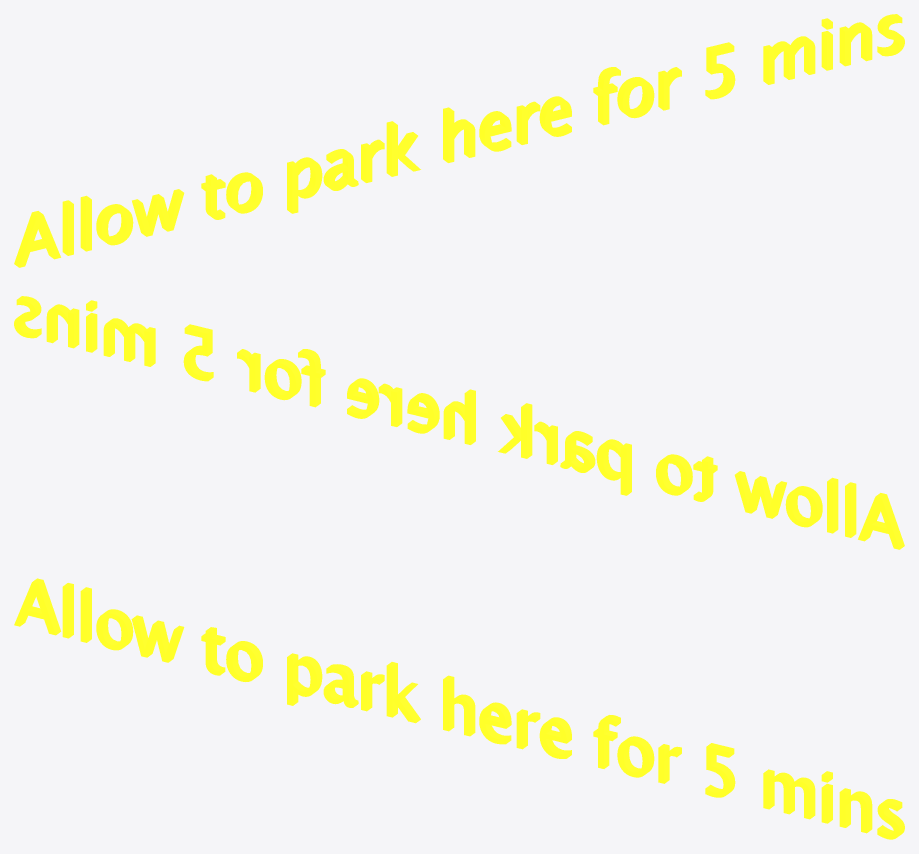
File: notify.glb
3 renders of one model, top to bottom at view 1: azimuth 30°, elevation 25°; view 2: azimuth 150°, elevation 25°; view 3: azimuth 330°, elevation 25°, orthographic.
Visible parts, largest first — view 1: notify:typeMesh6; view 2: notify:typeMesh6; view 3: notify:typeMesh6.
Part boxes in pixels (box(x1,y1,x2,y2)): notify:typeMesh6: box(14, 14, 904, 267); notify:typeMesh6: box(14, 296, 904, 549); notify:typeMesh6: box(14, 578, 904, 839).
Size of the model in its own units: 0.4806 by 0.0332 by 0.005.
